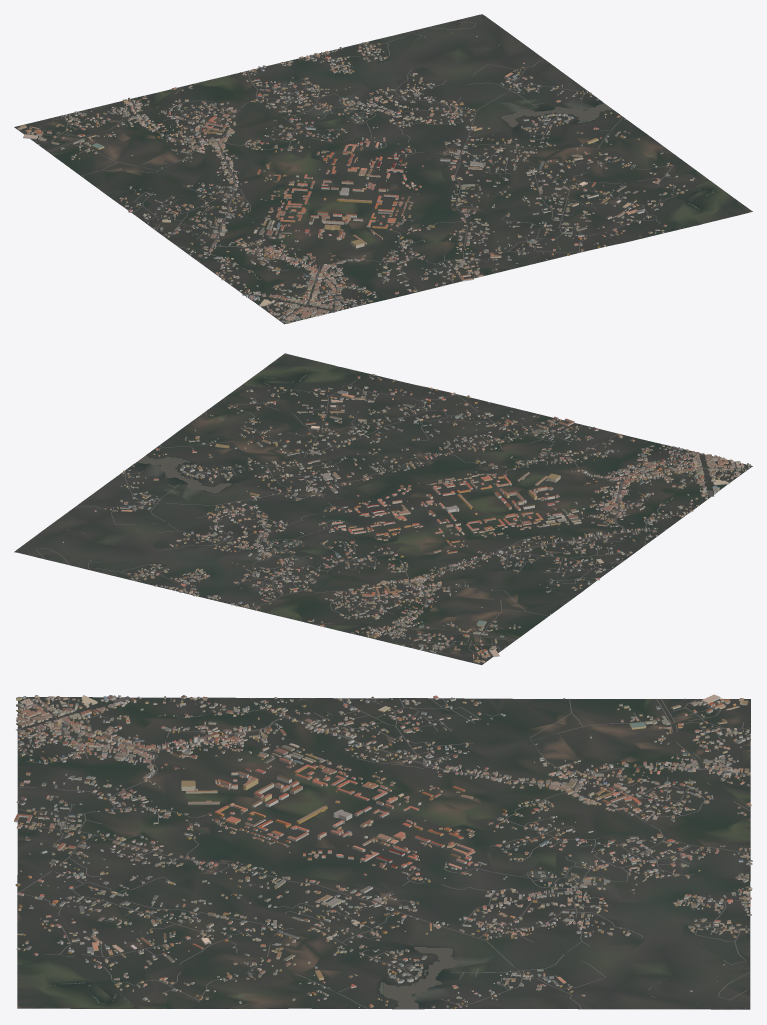
3 views of the same model, one above another, from view 1: azimuth 30°, elevation 25°; view 2: azimuth 150°, elevation 25°; view 3: azimuth 270°, elevation 25° (orthographic). The views are drawn at different scales.
Parts seen in each view (by area): view 1: ground, buildings, roads, water; view 2: ground, buildings, roads, water; view 3: ground, buildings, roads, water.
Boxes of the visible parts, x1,y1,x2,y2 form: ground: [14, 14, 752, 324]; buildings: [17, 32, 694, 323]; roads: [33, 21, 677, 321]; water: [390, 15, 713, 227]; ground: [14, 353, 752, 664]; buildings: [62, 374, 750, 663]; roads: [36, 380, 748, 655]; water: [17, 367, 486, 551]; ground: [17, 697, 750, 1009]; buildings: [14, 694, 752, 1008]; roads: [16, 696, 750, 1009]; water: [19, 829, 746, 1008].
Size of the model in its own units: 2826 by 37.27 by 2827.
